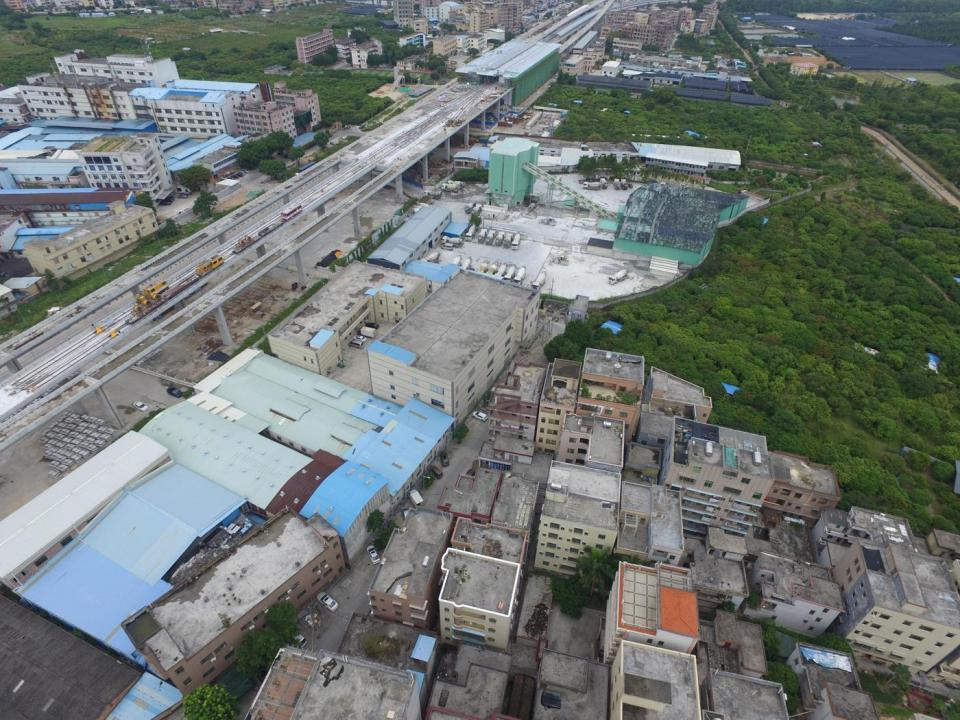car: (282, 623, 306, 649), (316, 591, 340, 612), (365, 544, 380, 565), (469, 410, 488, 422), (166, 386, 184, 398), (439, 450, 450, 467), (132, 400, 148, 411), (400, 505, 409, 522), (366, 321, 378, 330), (353, 335, 366, 342), (158, 200, 171, 206), (225, 176, 234, 182), (236, 170, 245, 176), (178, 194, 187, 199), (229, 175, 238, 180), (241, 168, 250, 173), (182, 191, 192, 195), (233, 173, 243, 177)
truck: (418, 251, 441, 269), (607, 268, 630, 285), (407, 488, 425, 509), (531, 271, 547, 292), (440, 235, 465, 248), (484, 260, 498, 282), (514, 264, 527, 284), (356, 326, 376, 339), (495, 262, 508, 280), (504, 264, 516, 283), (462, 256, 473, 276), (451, 253, 462, 273), (582, 180, 602, 191), (422, 189, 442, 200), (465, 224, 477, 242), (446, 179, 465, 190), (442, 182, 458, 195), (477, 260, 487, 280), (484, 229, 495, 246), (502, 232, 513, 248), (477, 227, 486, 246), (512, 232, 520, 252), (470, 203, 482, 216), (494, 230, 503, 247), (464, 201, 474, 215), (599, 178, 610, 190), (612, 178, 620, 190), (621, 178, 628, 191)
van: (429, 464, 443, 480), (347, 339, 364, 350), (439, 241, 452, 250)
